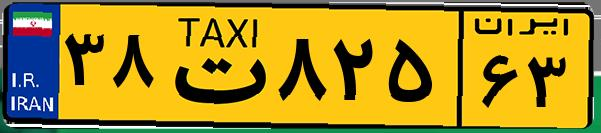2: (330, 28, 385, 110)
3: (57, 26, 110, 100), (525, 38, 570, 115)
5: (385, 28, 445, 110)
6: (475, 38, 525, 113)
8: (270, 28, 330, 110), (110, 28, 158, 98)
ت: (158, 12, 270, 120)
